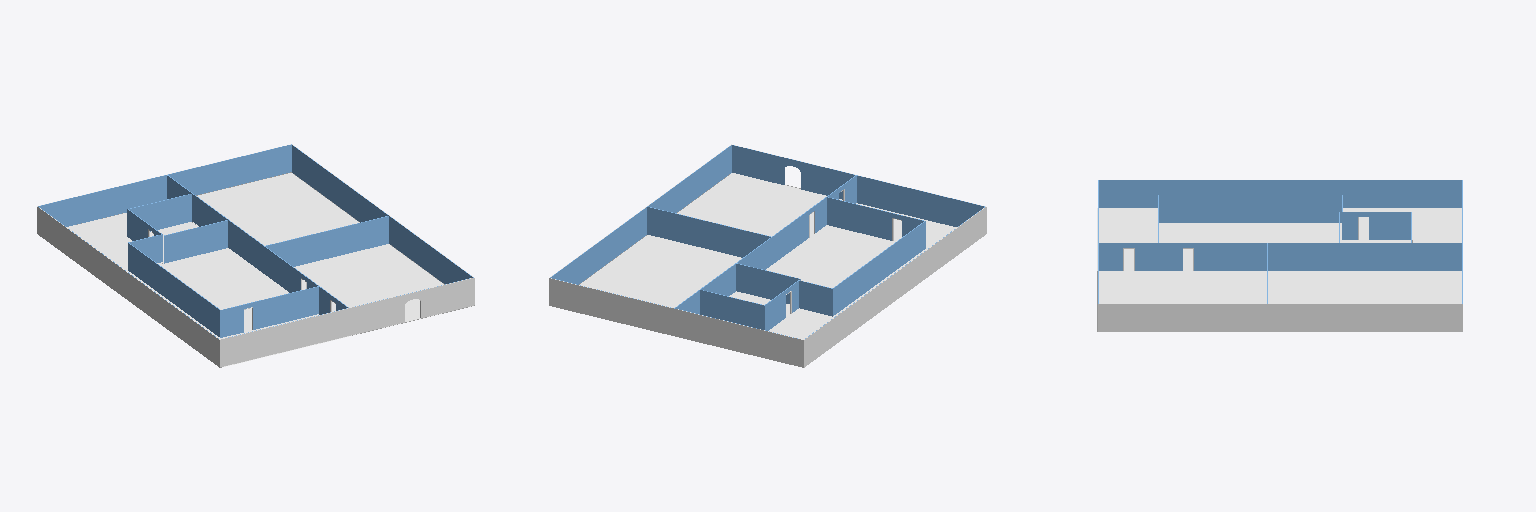
File: Casa_1.obj
3 views of the same model, side by side, from view 1: azimuth 30°, elevation 25°; view 2: azimuth 150°, elevation 25°; view 3: azimuth 270°, elevation 25° (orthographic).
Parts seen in each view (by area): view 1: wall_3_16, room_23_94, wall_1_5, room_26_97, wall_4_22, room_24_95, wall_2_11, wall_13_76, wall_9_53, wall_10_59, wall_11_64, room_21_92 (+5 smaller); view 2: wall_1_4, room_23_94, wall_3_17, room_26_97, wall_4_22, wall_2_11, room_24_95, wall_13_77, wall_9_53, wall_10_58, wall_11_64, wall_6_35 (+6 smaller); view 3: wall_2_10, wall_4_23, room_23_94, room_26_97, wall_9_52, wall_11_65, room_24_95, room_25_96, room_21_92, wall_16_88, wall_7_40, wall_5_28 (+1 smaller).
Boxes of the visible parts, x1,y1,x2,y2 form: wall_3_16: [220, 278, 474, 366]; room_23_94: [193, 173, 359, 268]; wall_1_5: [38, 145, 291, 226]; room_26_97: [267, 244, 470, 335]; wall_4_22: [37, 207, 219, 367]; room_24_95: [159, 248, 288, 331]; wall_2_11: [292, 145, 472, 283]; wall_13_76: [266, 216, 388, 266]; wall_9_53: [128, 243, 219, 336]; wall_10_59: [220, 287, 318, 337]; wall_11_64: [228, 220, 317, 292]; room_21_92: [67, 213, 163, 271]; wall_1_4: [549, 278, 803, 367]; room_23_94: [580, 235, 771, 307]; wall_3_17: [732, 145, 983, 226]; room_26_97: [650, 173, 842, 257]; wall_4_22: [804, 207, 986, 367]; wall_2_11: [551, 145, 731, 284]; room_24_95: [766, 225, 895, 287]; wall_13_77: [647, 207, 770, 257]; wall_9_53: [833, 221, 925, 315]; wall_10_58: [827, 197, 923, 240]; wall_11_64: [738, 197, 826, 269]; wall_6_35: [700, 290, 764, 329]; wall_2_10: [1098, 304, 1462, 331]; wall_4_23: [1099, 180, 1461, 207]; room_23_94: [1269, 271, 1461, 303]; room_26_97: [1099, 271, 1268, 303]; wall_9_52: [1159, 195, 1341, 222]; wall_11_65: [1158, 243, 1339, 270]; room_24_95: [1159, 223, 1338, 270]; room_25_96: [1097, 208, 1157, 270]; room_21_92: [1340, 208, 1461, 242]; wall_16_88: [1339, 243, 1410, 270]; wall_7_40: [1342, 212, 1410, 239]; wall_5_28: [1411, 243, 1461, 270].
Bounding box in the file's own units: 2407 × 250 × 2996.